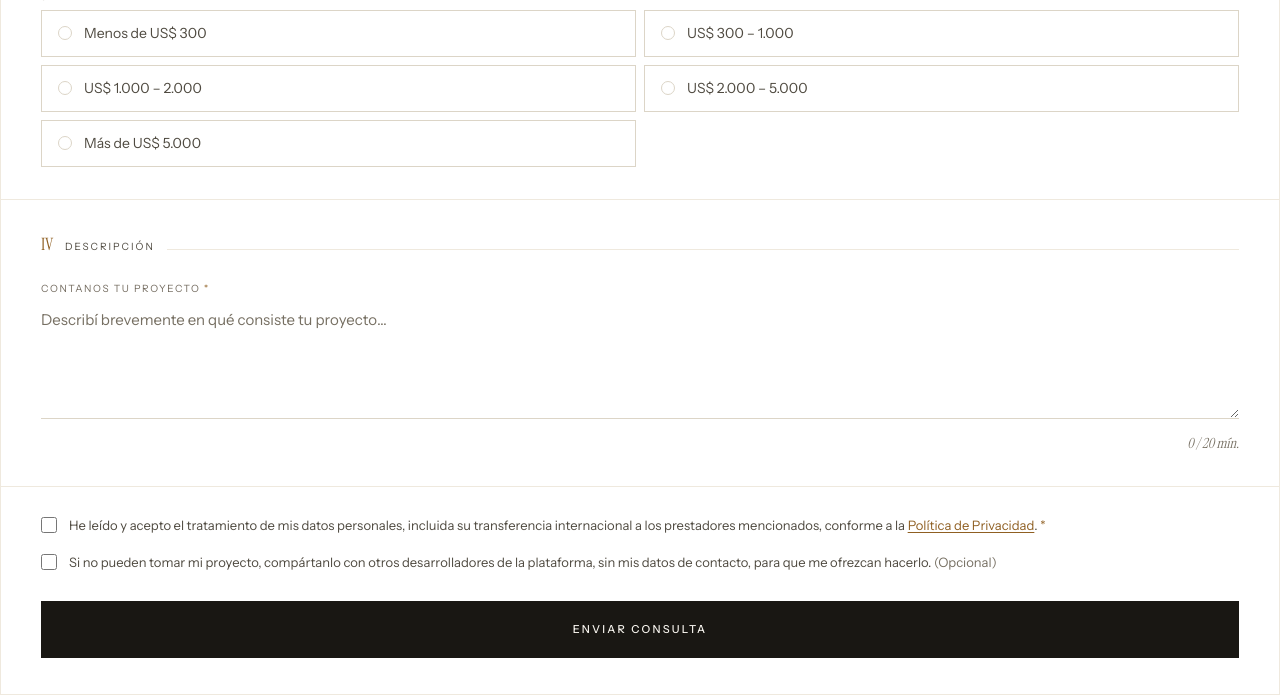
Scenario: LeadForm › no manda nada si faltan los campos requeridos
(page scrolled)
Click the button "Enviar consulta": click(640, 629) left=41, top=601, right=1239, bottom=658
(page scrolled)
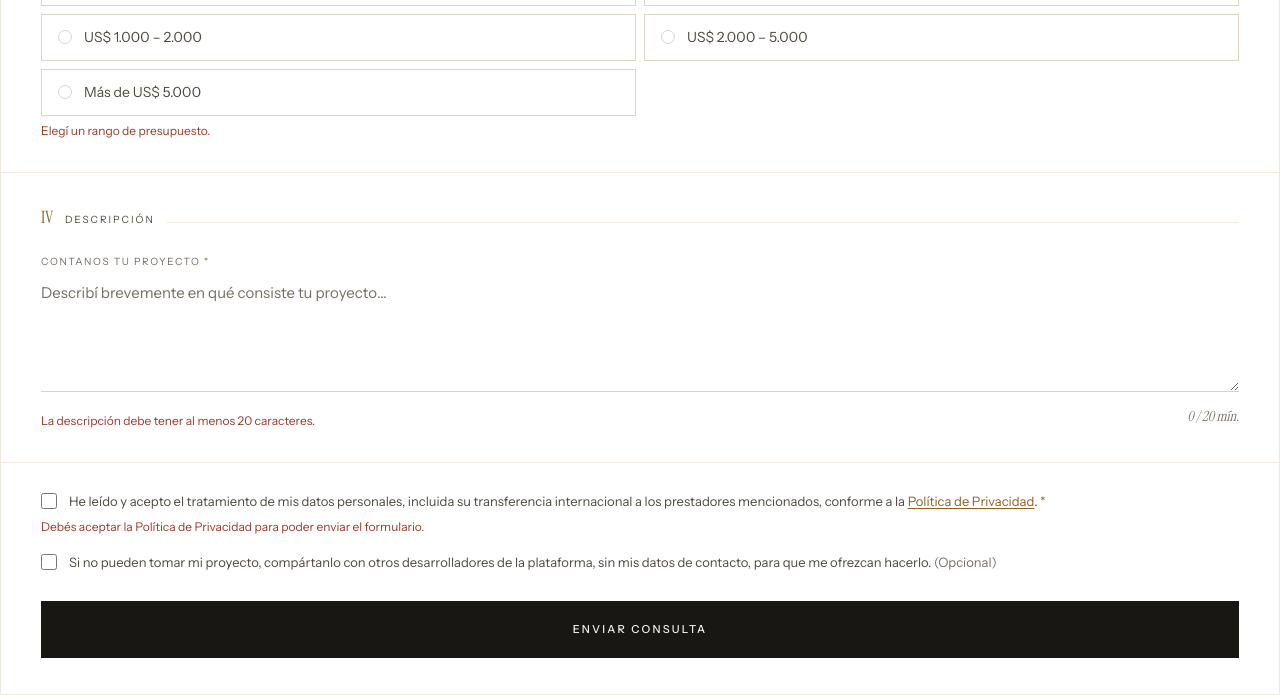
Expected: the text "Elegí un rango de presupuesto." is shown, left=41, top=123, right=210, bottom=138
Expected: the text "La descripción debe tener al menos 20 caracteres." is shown, left=41, top=412, right=315, bottom=430
Expected: the text "Debés aceptar la Política de Privacidad para poder enviar el formulario." is shown, left=41, top=519, right=424, bottom=534
